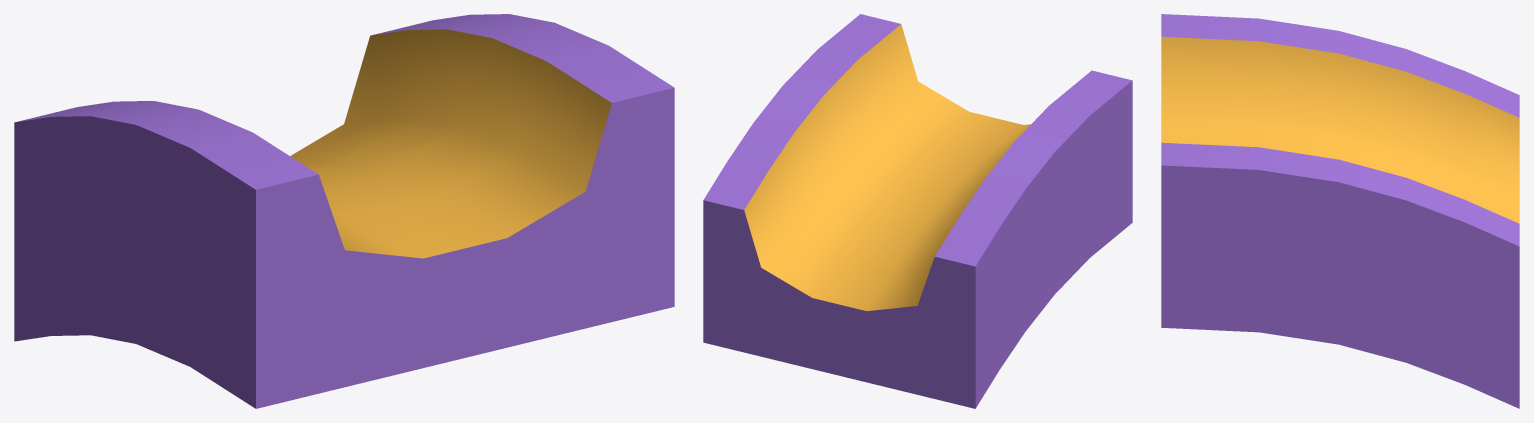
Rendered from ramp-end-b.glb.
3 views of the same model, side by side, from view 1: azimuth 30°, elevation 25°; view 2: azimuth 150°, elevation 25°; view 3: azimuth 270°, elevation 25° (orthographic). The views are drawn at different scales.
Visible parts, largest first — view 1: ramp-end-b; view 2: ramp-end-b; view 3: ramp-end-b.
Boxes of the visible parts, left/top/right/bottom form: ramp-end-b: left=14, top=14, right=674, bottom=408; ramp-end-b: left=703, top=14, right=1132, bottom=408; ramp-end-b: left=1161, top=14, right=1519, bottom=408.
Size of the model in its own units: 1 by 0.75 by 1.
Materials: 1 (1 with a texture image).
